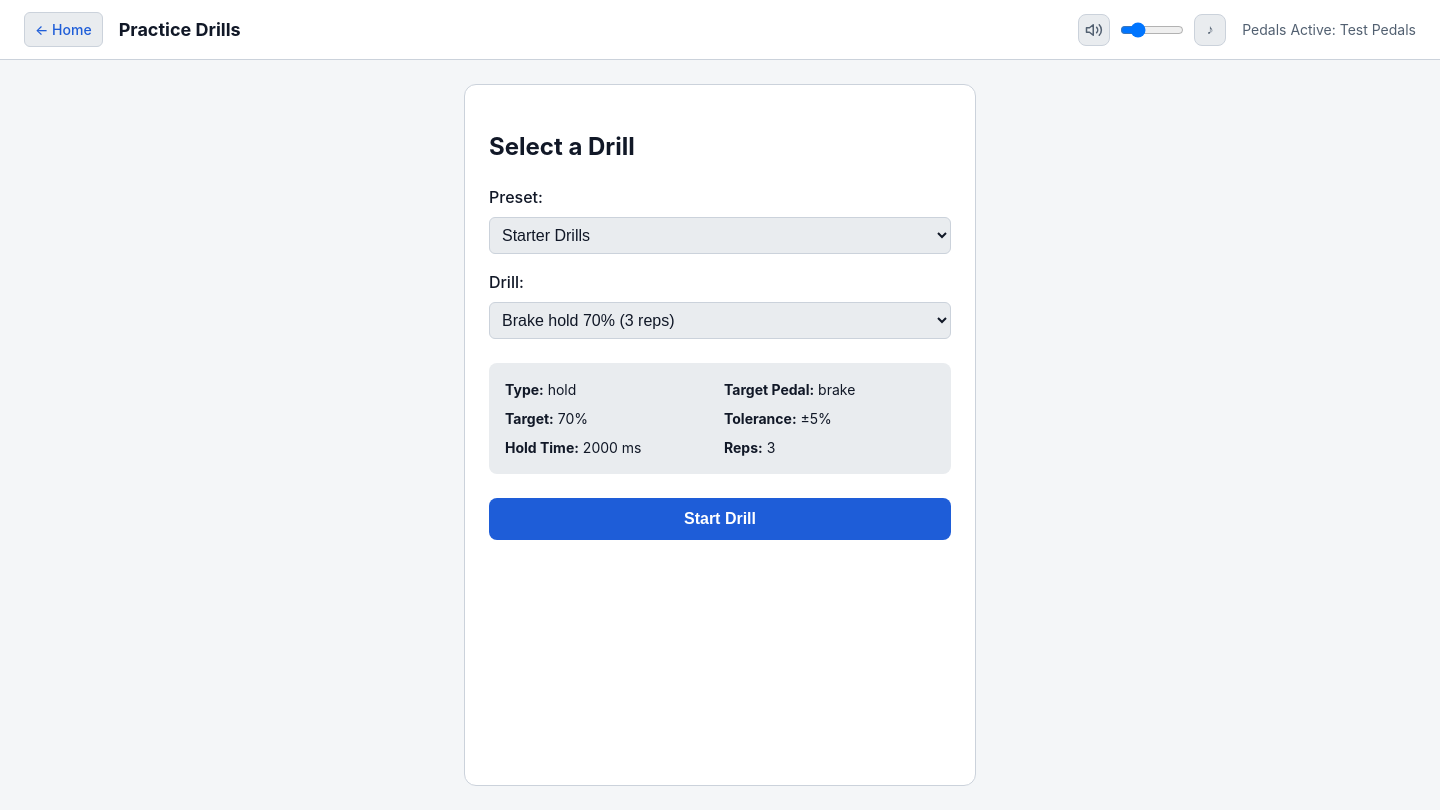
Test: Drill page › shows a start error inline
The width and height of the screenshot is (1440, 810).
Click the button "Start Drill".
click(720, 519)  # box [489, 498, 951, 540]
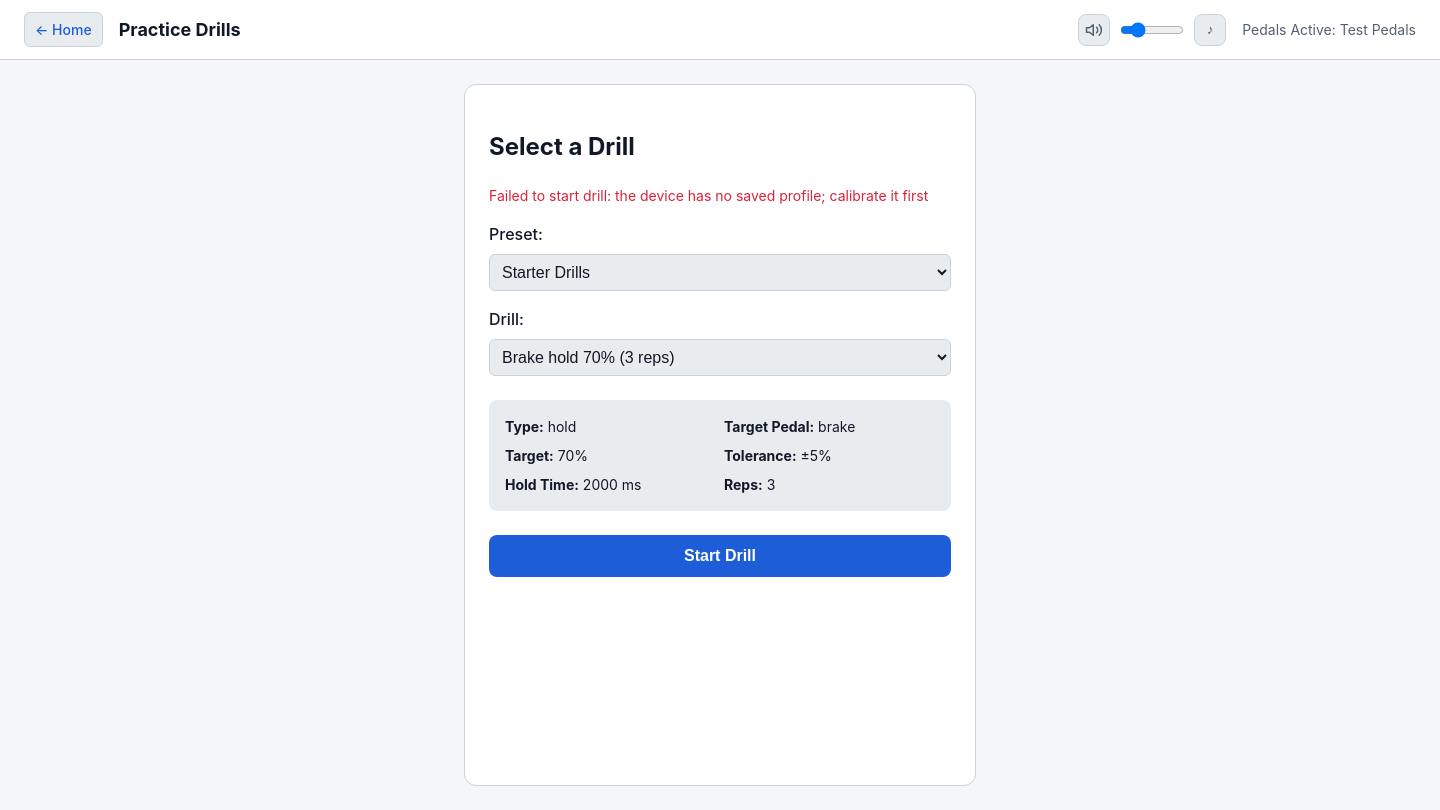
Check: the message shows "Failed to start drill", box [489, 187, 928, 204]
Check: the message shows "calibrate it first", box [489, 187, 928, 204]
